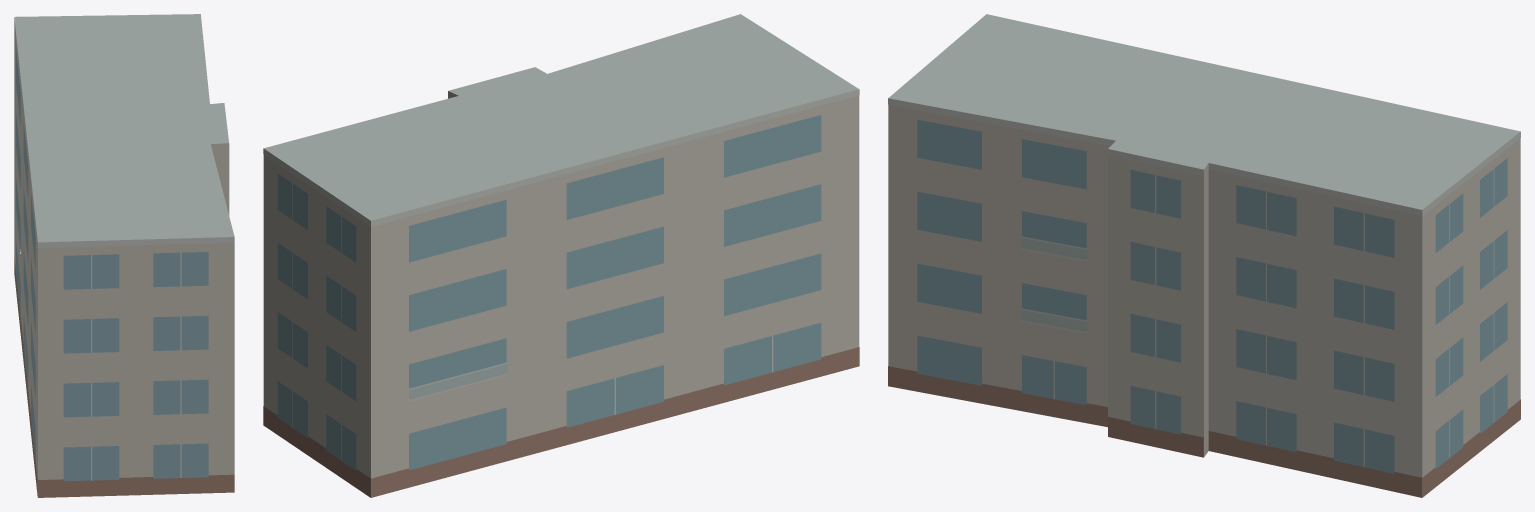
Rendered from survey-upis-32727853.glb.
3 views of the same model, side by side, from view 1: azimuth 30°, elevation 25°; view 2: azimuth 150°, elevation 25°; view 3: azimuth 270°, elevation 25° (orthographic). The views are drawn at different scales.
Visible parts, largest first — view 1: survey-upis-32727853.tmp; view 2: survey-upis-32727853.tmp; view 3: survey-upis-32727853.tmp.
Part boxes in pixels (x1,y1,x2,y2): survey-upis-32727853.tmp: [14, 14, 234, 497]; survey-upis-32727853.tmp: [263, 14, 859, 497]; survey-upis-32727853.tmp: [888, 14, 1520, 497].
Bounding box in the file's own units: 16.06 × 11 × 21.91.
